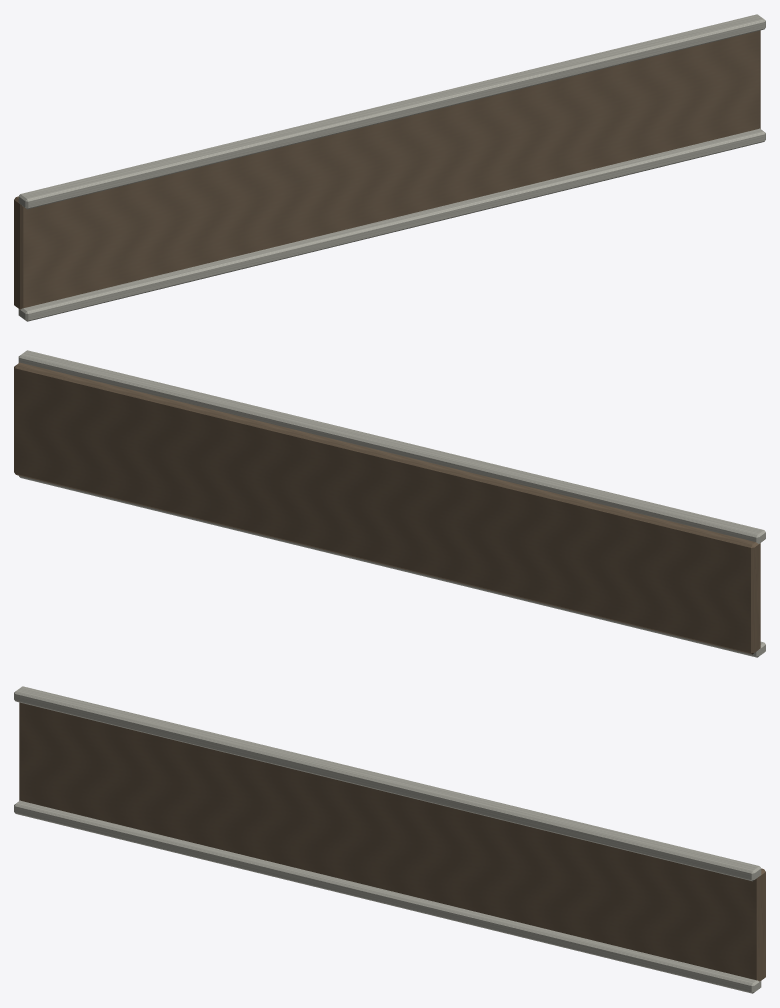
File: D_SignBand_Timber_visual.glb
3 views of the same model, one above another, from view 1: azimuth 30°, elevation 25°; view 2: azimuth 150°, elevation 25°; view 3: azimuth 330°, elevation 25° (orthographic).
Parts seen in each view (by area): view 1: D_SignBand_Timber__VIS; view 2: D_SignBand_Timber__VIS; view 3: D_SignBand_Timber__VIS.
Part boxes in pixels (bbox=[...]): D_SignBand_Timber__VIS: bbox=[14, 14, 765, 321]; D_SignBand_Timber__VIS: bbox=[14, 350, 765, 657]; D_SignBand_Timber__VIS: bbox=[14, 686, 765, 993].
Size of the model in its own units: 12 by 1.9 by 0.385.
Materials: 1 (1 with a texture image).
